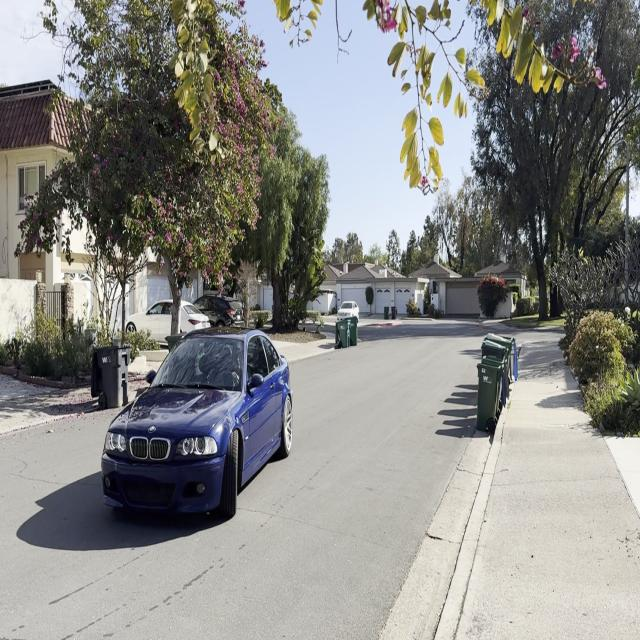Carbeetle: (88, 303, 304, 547)
